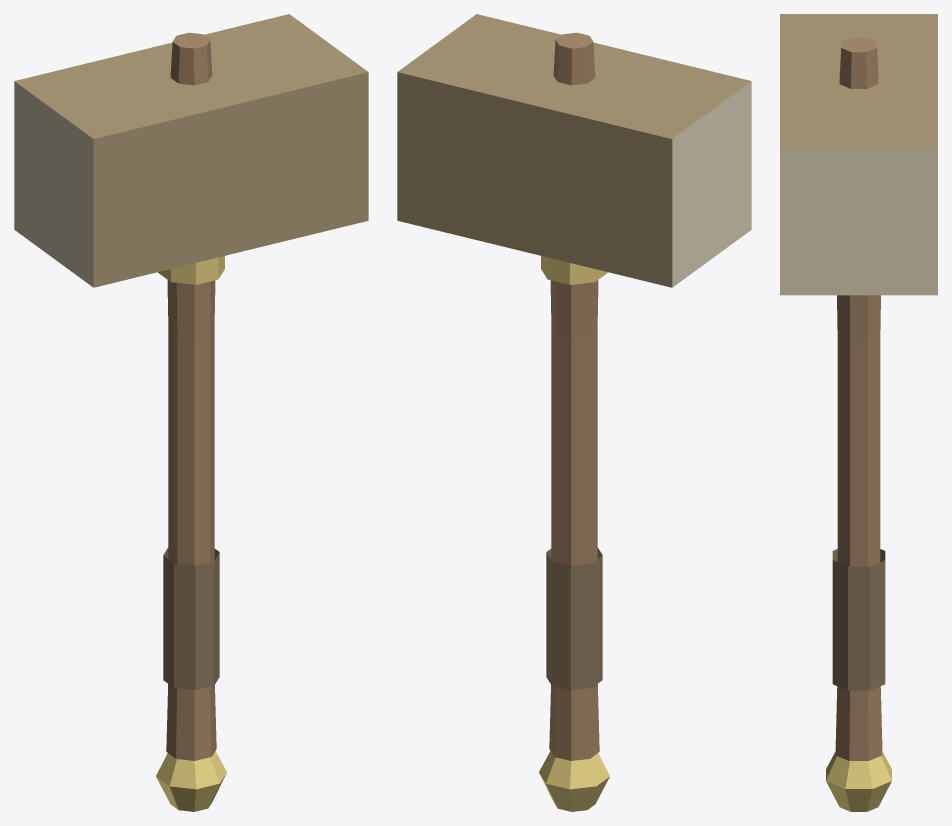
File: gear_warhammer_v1.glb
The picture shows the model from 3 angles, left to right: view 1: azimuth 30°, elevation 25°; view 2: azimuth 150°, elevation 25°; view 3: azimuth 270°, elevation 25°; orthographic projection.
Parts seen in each view (by area): view 1: gear_warhammer; view 2: gear_warhammer; view 3: gear_warhammer.
Boxes of the visible parts, x1,y1,x2,y2 form: gear_warhammer: (14,14,368,811); gear_warhammer: (397,14,751,811); gear_warhammer: (780,14,937,811).
Size of the model in its own units: 0.3 by 0.795 by 0.15.
